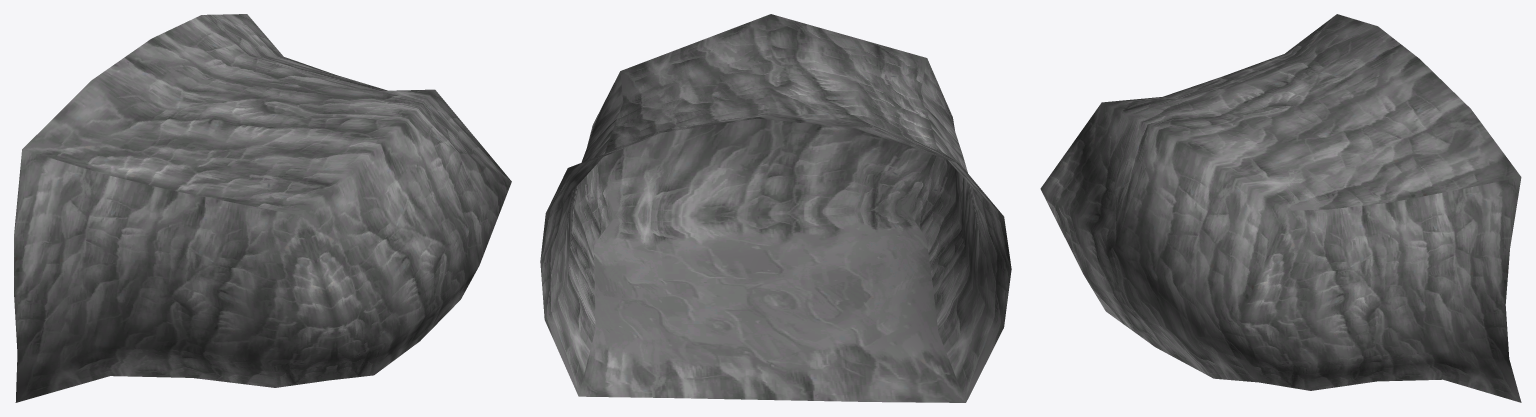
File: SWORDLIGHT20_PS-AREA04_07.fbx
3 views of the same model, side by side, from view 1: azimuth 30°, elevation 25°; view 2: azimuth 150°, elevation 25°; view 3: azimuth 270°, elevation 25° (orthographic). The views are drawn at different scales.
Parts seen in each view (by area): view 1: SWORDLIGHT20_PS-AREA04_07; view 2: SWORDLIGHT20_PS-AREA04_07; view 3: SWORDLIGHT20_PS-AREA04_07.
Boxes of the visible parts, box(x1,y1,x2,y2) form: SWORDLIGHT20_PS-AREA04_07: box(14, 14, 511, 402); SWORDLIGHT20_PS-AREA04_07: box(540, 14, 1011, 402); SWORDLIGHT20_PS-AREA04_07: box(1040, 14, 1521, 402).
Size of the model in its own units: 78745 by 46278 by 72162.
Materials: 2 (2 with a texture image).
